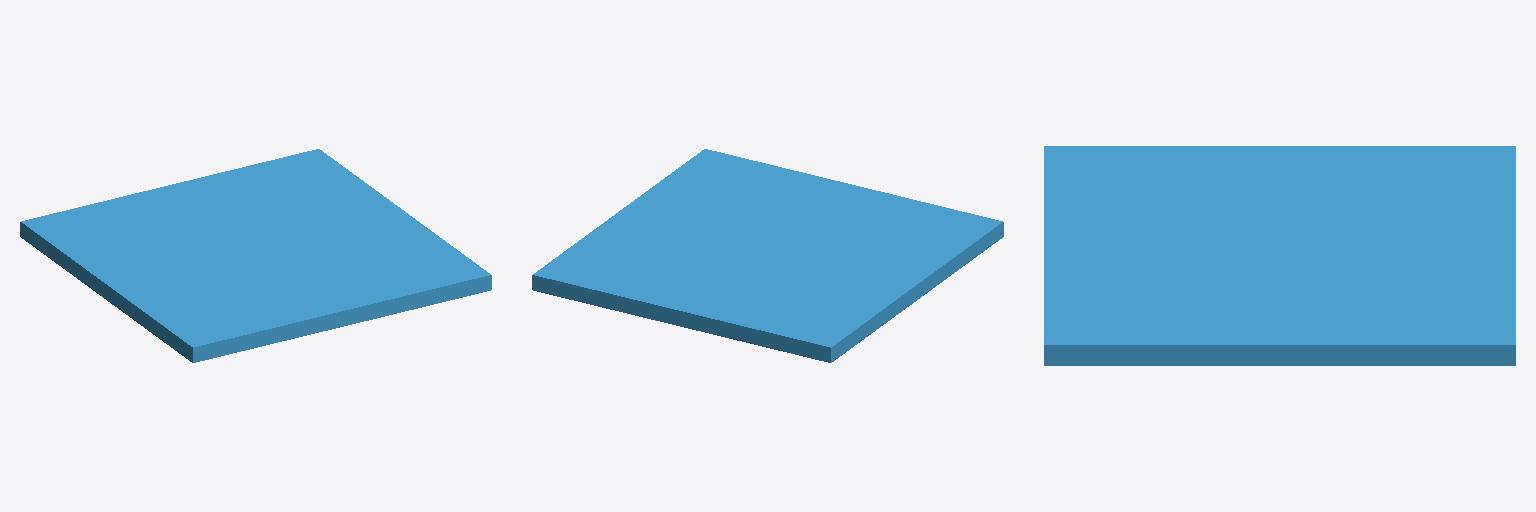
URDF robot description (bin):
<?xml version='1.0'?>
<robot name ='bin'>

<link name="world"/>

<joint name = "joint_fix" type = "fixed">
  <parent link="world"/>
  <child link = "bottom"/>
</joint>


<link name ="bottom"> <!--2-->
  <collision>
    <origin xyz="0 0 0" rpy="0 0 0"/>
    <geometry>
      <box size="0.4 0.4 0.02"/> <!--3-->
    </geometry>
  </collision>

  <visual>
    <origin xyz="0 0 0" rpy="0 0 0"/>
    <geometry>
      <box size="0.4 0.4 0.02"/>
    </geometry>
  </visual>

  <inertial>
    <origin xyz="0 0 0" rpy="0 0 0" />
    <mass value="5.0" />
    <inertia
      ixx="0.001" ixy="0.0"  ixz="0.0"
      iyy="0.001" iyz="0.0"
      izz="0.001" />
  </inertial>
</link>

<joint name = "left_wall" type = "fixed">
  <parent link="bottom"/>
  <child link = "left"/>
</joint>


<link name = "left">
  <collision> <!--4-->
    <origin xyz="-0.2 0 0.05" rpy="0 0 0"/>
    <geometry>
      <box size="0.02 0.4 0.2"/>
    </geometry>
  </collision>

  <!-- <visual>
    <origin xyz="-0.2 0 0.05" rpy="0 0 0"/>
    <geometry>
      <box size="0.02 0.4 0.2"/>
    </geometry>
  </visual> -->

  <inertial>
    <origin xyz="-0.2 0 0.05" rpy="0 0 0" />
    <mass value="0.05" />
    <inertia
      ixx="0.001" ixy="0.0"  ixz="0.0"
      iyy="0.001" iyz="0.0"
      izz="0.001" />
  </inertial>
</link>

<joint name = "right_wall" type = "fixed">
  <parent link="bottom"/>
  <child link = "right"/>
</joint>

<link name="right">
  <collision>
    <origin xyz="0.2 0 0.05" rpy="0 0 0"/>
    <geometry>
      <box size="0.02 0.4 0.2"/>
    </geometry>
  </collision>

  <!-- <visual>
    <origin xyz="0.2 0 0.05" rpy="0 0 0"/>
    <geometry>
      <box size="0.02 0.4 0.2"/>
    </geometry>
  </visual> -->

  <inertial>
    <origin xyz="0.2 0 0.05" rpy="0 0 0" />
    <mass value="0.05" />
    <inertia
      ixx="0.001" ixy="0.0"  ixz="0.0"
      iyy="0.001" iyz="0.0"
      izz="0.001" />
  </inertial>
</link>

<joint name = "back_wall" type = "fixed">
  <parent link="bottom"/>
  <child link = "back"/>
</joint>

<link name="back">
  <collision>
    <origin xyz="0 0.2 0.05" rpy="0 0 0"/>
    <geometry>
      <box size="0.4 0.02 0.2"/>
    </geometry>
  </collision>

  <!-- <visual>
    <origin xyz="0 0.2 0.05" rpy="0 0 0"/>
    <geometry>
      <box size="0.4 0.02 0.2"/>
    </geometry>
  </visual> -->

  <inertial>
    <origin xyz="0 0.2 0.05" rpy="0 0 0" />
    <mass value="0.05" />
    <inertia
      ixx="0.001" ixy="0.0"  ixz="0.0"
      iyy="0.001" iyz="0.0"
      izz="0.001" />
  </inertial>
</link>

<joint name = "front_wall" type = "fixed">
  <parent link="bottom"/>
  <child link = "front"/>
</joint>

<link name="front">
  <collision>
    <origin xyz="0 -0.2 0.05" rpy= "0 0 0"/>
    <geometry>
      <box size="0.4 0.02 0.2"/>
    </geometry>
  </collision>

  <!-- <visual>
    <origin xyz="0 -0.2 0.05" rpy="0 0 0"/>
    <geometry>
      <box size="0.4 0.02 0.2"/>
    </geometry>
  </visual> -->

  <inertial>
    <origin xyz="0 -0.2 0.05" rpy="0 0 0"/>
    <mass value="0.05" />
    <inertia
      ixx="0.001" ixy="0.0"  ixz="0.0"
      iyy="0.001" iyz="0.0"
      izz="0.001" />
  </inertial>
</link>

<gazebo reference="bottom">
  <mu1>10</mu1>
  <mu2>10</mu2>
  <material>Gazebo/Green</material>
</gazebo>

<gazebo reference="right">
  <mu1>10</mu1>
  <mu2>10</mu2>
  <material>Gazebo/Green</material>
</gazebo>

<gazebo reference="left">
  <mu1>10</mu1>
  <mu2>10</mu2>
  <material>Gazebo/Green</material>
</gazebo>

<gazebo reference="back">
  <mu1>10</mu1>
  <mu2>10</mu2>
  <material>Gazebo/Green</material>
</gazebo>

<gazebo reference="front">
  <mu1>10</mu1>
  <mu2>10</mu2>
  <material>Gazebo/Green</material>
</gazebo>

</robot>

--- What the picture shows (computed from the rendered views, not written in the file) ---
The picture shows the robot from 3 angles, left to right: view 1: azimuth 30°, elevation 25°; view 2: azimuth 150°, elevation 25°; view 3: azimuth 270°, elevation 25°; orthographic projection.
Model bin with 6 links and 5 joints (5 fixed), rooted at world, posed all joints at 0.
Visible links, largest first — view 1: bottom; view 2: bottom; view 3: bottom.
Boxes of the visible links, bbox=[...] form: bottom: bbox=[20, 149, 491, 362]; bottom: bbox=[532, 149, 1003, 362]; bottom: bbox=[1044, 146, 1515, 365].
Size in the robot's own frame: 0.4 by 0.4 by 0.02 metres.
Geometry: primitives only (box / cylinder / sphere), no mesh files.